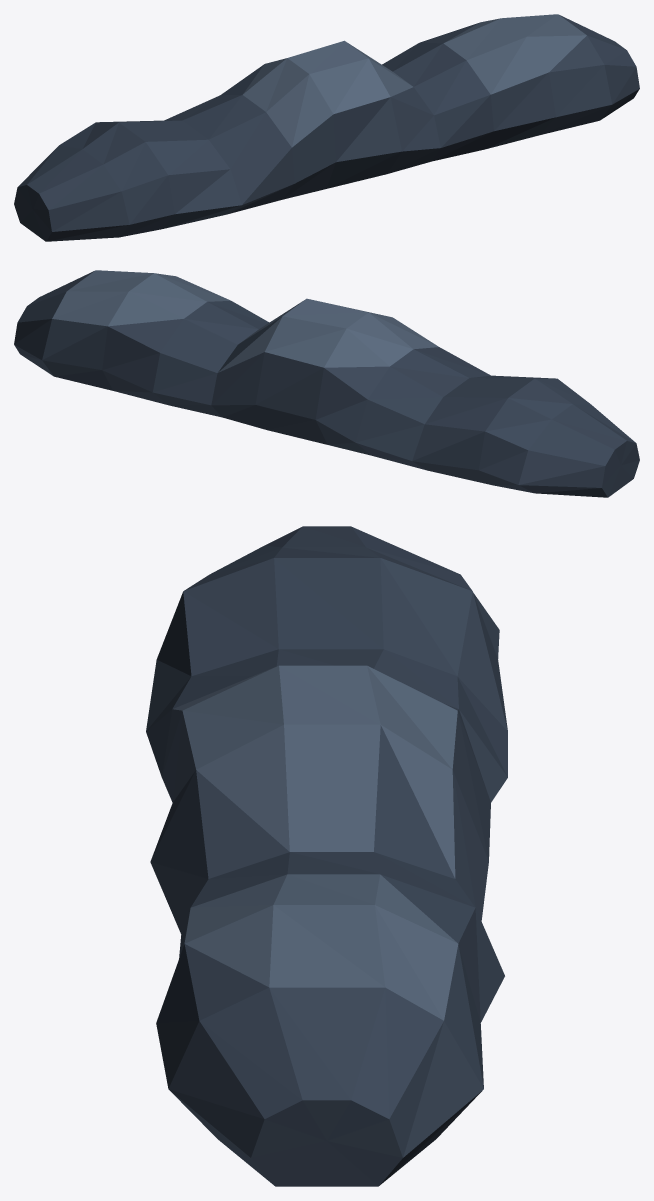
Rendered from ledge_z2_rock_medium.glb.
3 views of the same model, one above another, from view 1: azimuth 30°, elevation 25°; view 2: azimuth 150°, elevation 25°; view 3: azimuth 270°, elevation 25° (orthographic). The views are drawn at different scales.
Visible parts, largest first — view 1: ledge_z2_rock_medium; view 2: ledge_z2_rock_medium; view 3: ledge_z2_rock_medium.
Boxes of the visible parts, left/top/right/bottom form: ledge_z2_rock_medium: left=14, top=14, right=639, bottom=241; ledge_z2_rock_medium: left=14, top=270, right=639, bottom=497; ledge_z2_rock_medium: left=146, top=526, right=507, bottom=1186.
Size of the model in its own units: 6 by 1 by 1.6.
